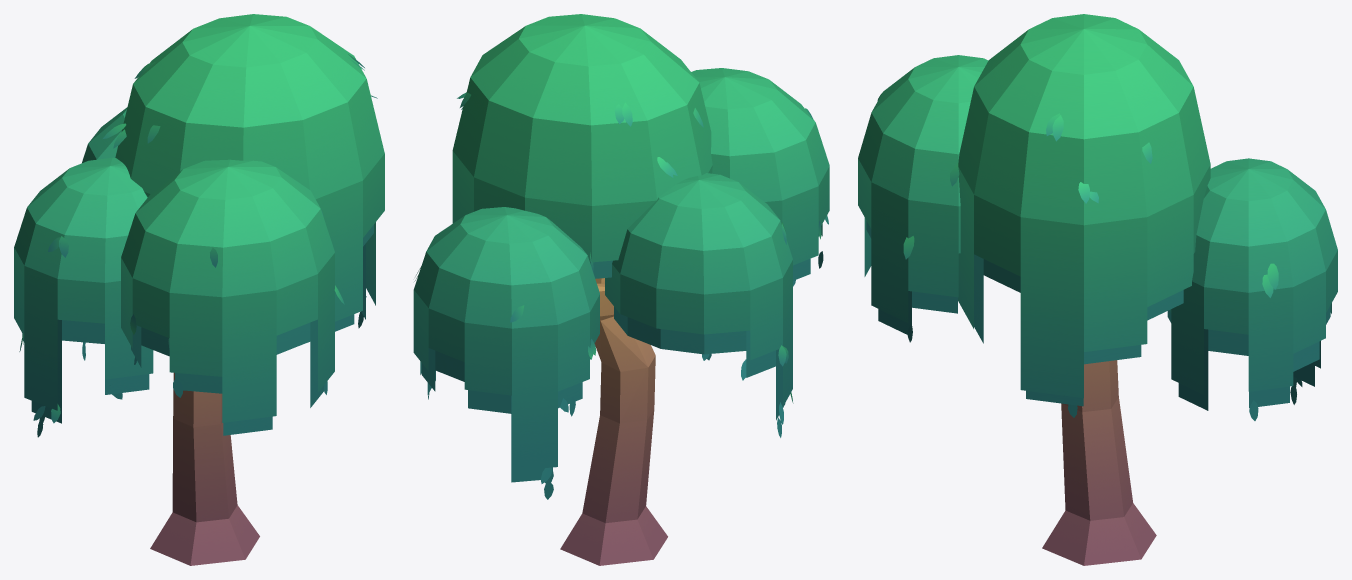
Rendered from albero3.glb.
3 views of the same model, side by side, from view 1: azimuth 30°, elevation 25°; view 2: azimuth 150°, elevation 25°; view 3: azimuth 270°, elevation 25° (orthographic). The views are drawn at different scales.
Bounding box in the file's own units: 177 × 251 × 205.
1 material, 1 textured.
